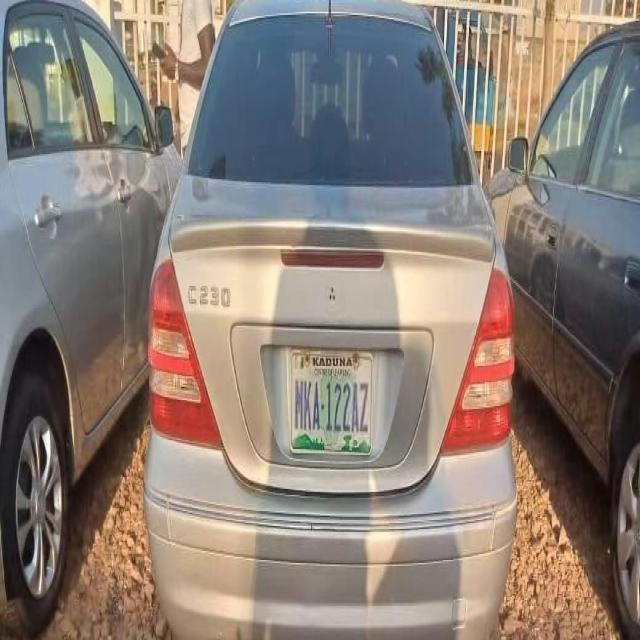Nigerian License Plate - vdataset benjamin-daria: (291, 346, 373, 454)
